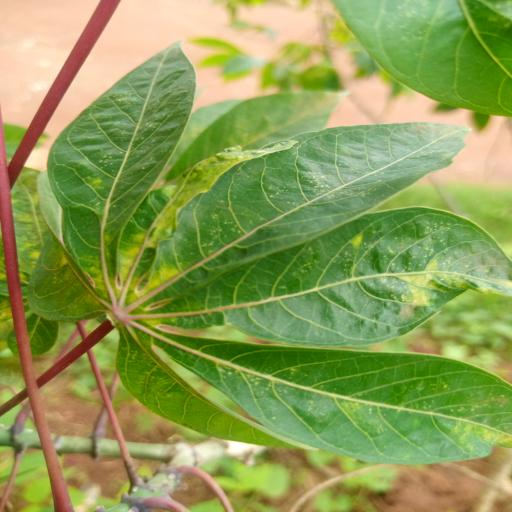Cassava_Mosaic: (0, 44, 512, 468)
